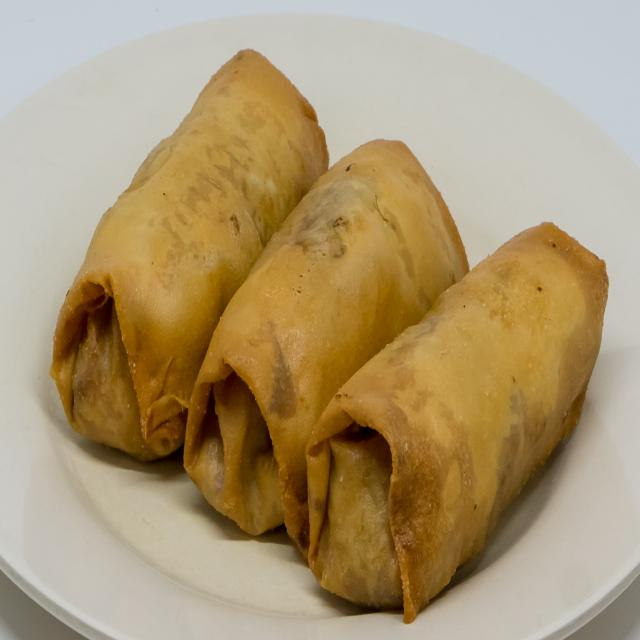Lumpia-Semarang: (44, 33, 614, 628)
